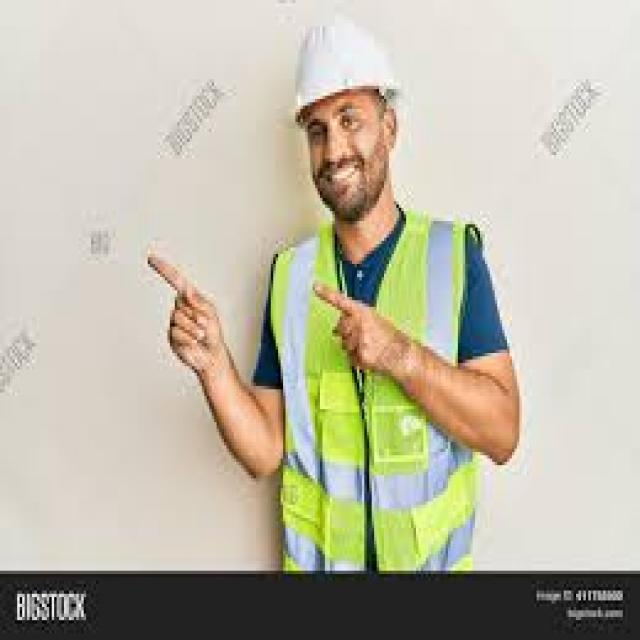Reflective-Jacket: (258, 215, 492, 578)
Safety-Helmet: (283, 13, 406, 129)
